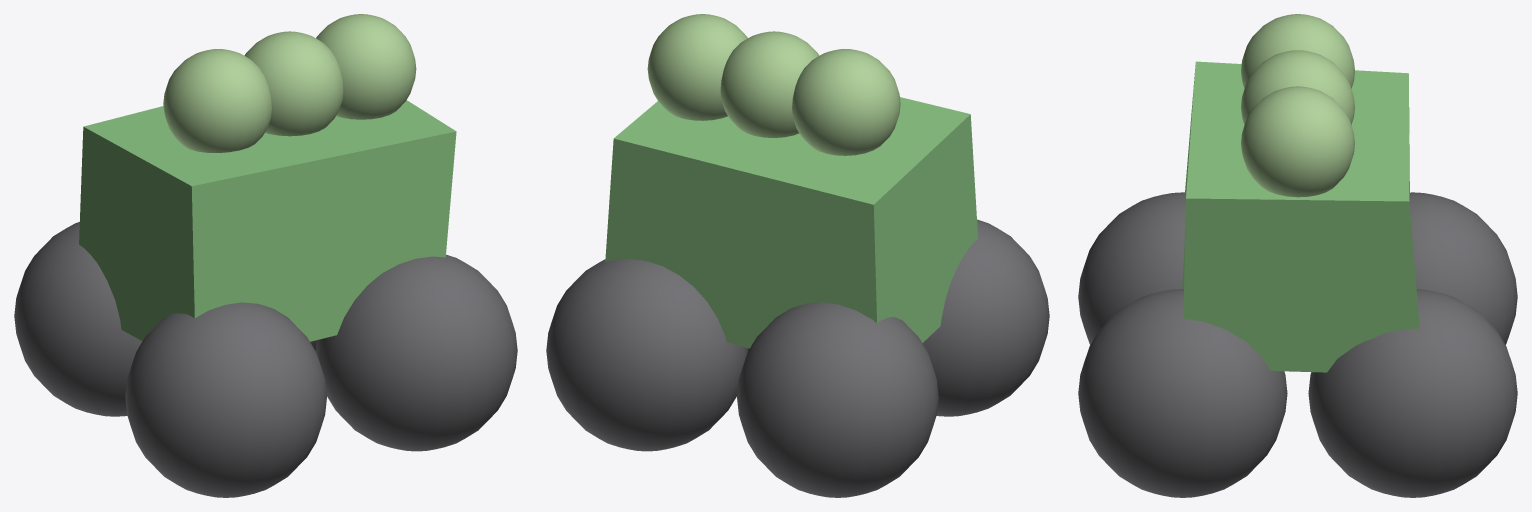
Rendered from clay_garbage_truck.glb.
3 renders of one model, left to right at view 1: azimuth 30°, elevation 25°; view 2: azimuth 150°, elevation 25°; view 3: azimuth 270°, elevation 25°, orthographic. The views are drawn at different scales.
Visible parts, largest first — view 1: trash.002; view 2: trash.002; view 3: trash.002.
Boxes of the visible parts, x1,y1,x2,y2 form: trash.002: [14, 14, 517, 497]; trash.002: [546, 14, 1049, 497]; trash.002: [1078, 14, 1517, 497].
Size of the model in its own units: 0.9201 by 0.9201 by 0.924.
